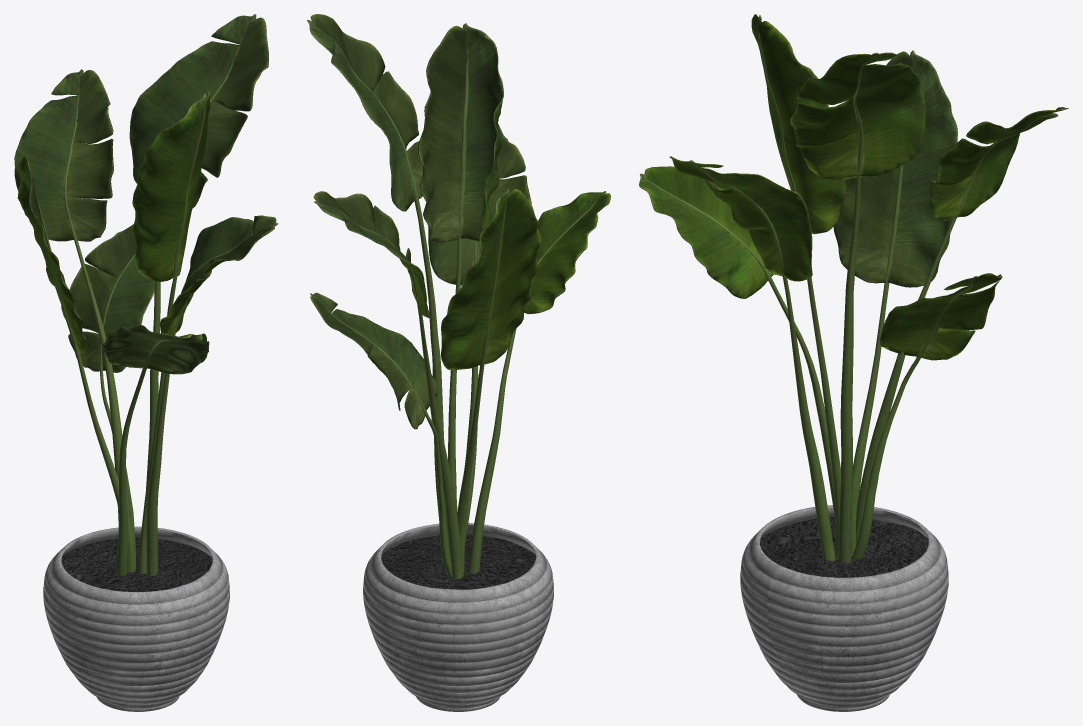
File: plant_8.glb
The picture shows the model from 3 angles, left to right: view 1: azimuth 30°, elevation 25°; view 2: azimuth 150°, elevation 25°; view 3: azimuth 270°, elevation 25°; orthographic projection. The views are drawn at different scales.
Visible parts, largest first — view 1: Plants_VOL01_08; view 2: Plants_VOL01_08; view 3: Plants_VOL01_08.
Part boxes in pixels (x1=…): Plants_VOL01_08: x1=14, y1=14, x2=278, y2=711; Plants_VOL01_08: x1=307, y1=14, x2=610, y2=711; Plants_VOL01_08: x1=639, y1=14, x2=1068, y2=711.
Size of the model in its own units: 0.4616 by 1.24 by 0.6791.
Materials: 5 (5 with a texture image).
